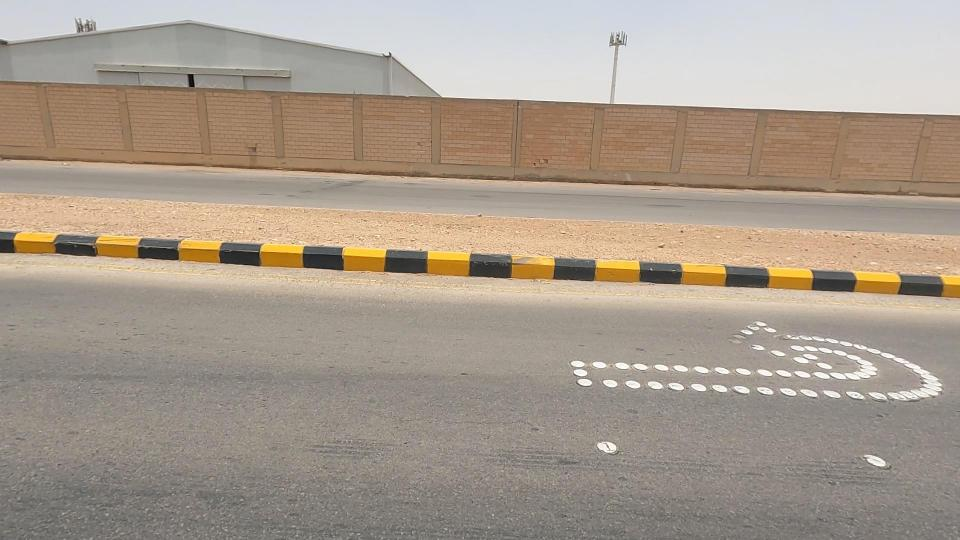CLUTTER_SIDEWALK: (481, 176, 960, 332), (0, 123, 347, 308), (217, 174, 646, 299)
